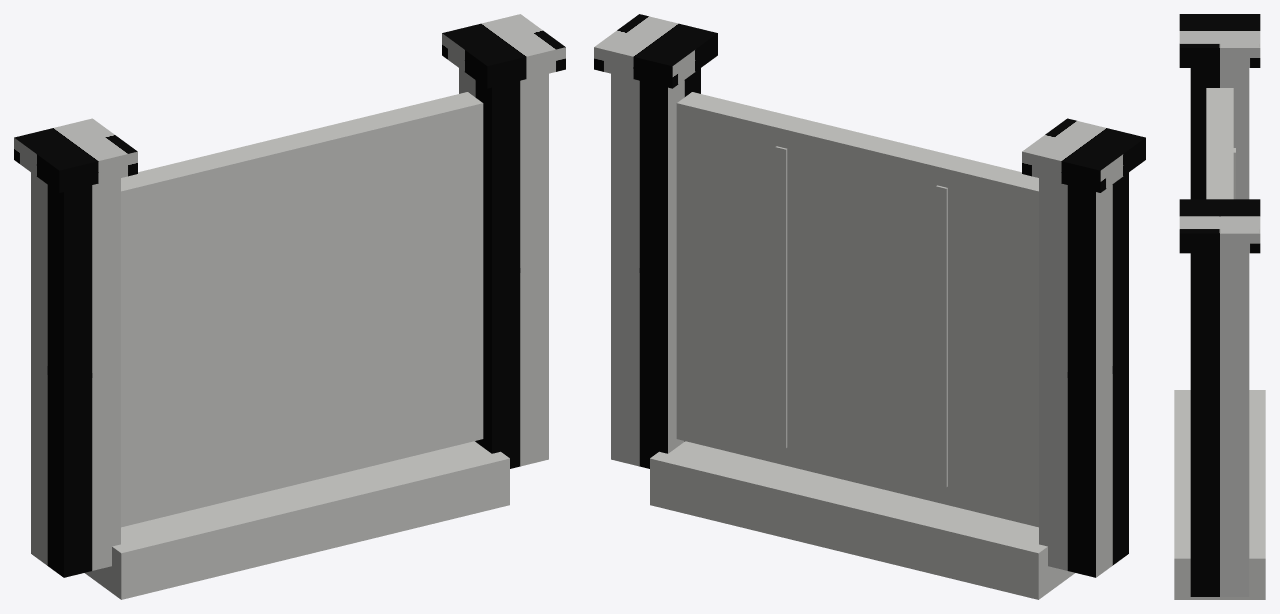
The model's file is wall_bay.glb.
3 renders of one model, left to right at view 1: azimuth 30°, elevation 25°; view 2: azimuth 150°, elevation 25°; view 3: azimuth 270°, elevation 25°, orthographic. The views are drawn at different scales.
Parts seen in each view (by area): view 1: wall_bay; view 2: wall_bay; view 3: wall_bay.
Part boxes in pixels (left/top/right/bottom): wall_bay: left=14, top=14, right=565, bottom=599; wall_bay: left=594, top=14, right=1145, bottom=599; wall_bay: left=1174, top=14, right=1265, bottom=599.
Size of the model in its own units: 2.84 by 2.37 by 0.5.
2 materials, 2 textured.
